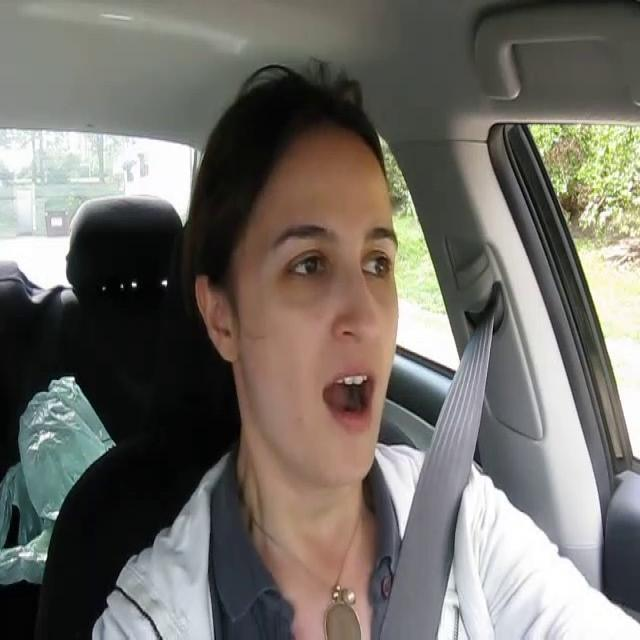open-mouth: (319, 360, 380, 436)
